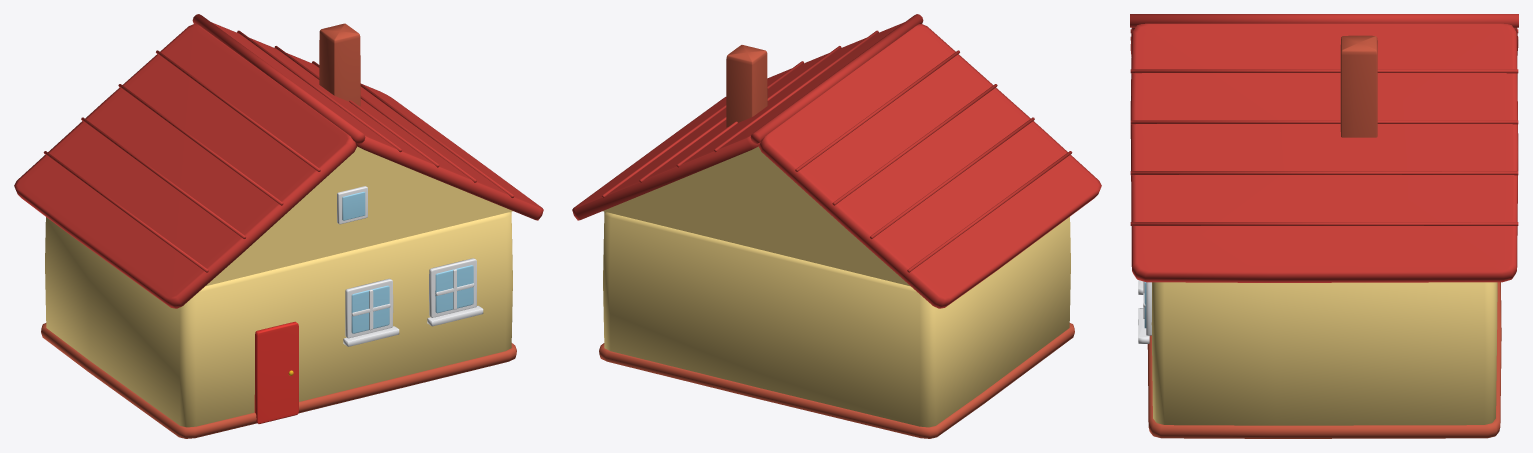
File: house_a.glb
3 renders of one model, left to right at view 1: azimuth 30°, elevation 25°; view 2: azimuth 150°, elevation 25°; view 3: azimuth 270°, elevation 25°, orthographic. The views are drawn at different scales.
Visible parts, largest first — view 1: Body; view 2: Body; view 3: Body.
Part boxes in pixels (bbox=[...]): Body: bbox=[14, 14, 543, 438]; Body: bbox=[572, 14, 1101, 438]; Body: bbox=[1130, 14, 1518, 438].
Bounding box in the file's own units: 9.01 × 6.52 × 6.72.
